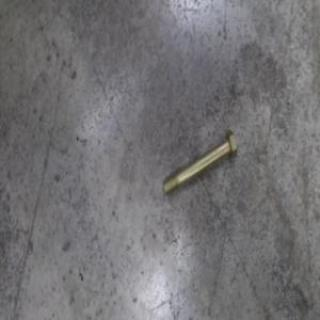Bolttrack_idkeyframe: (161, 127, 238, 196)
